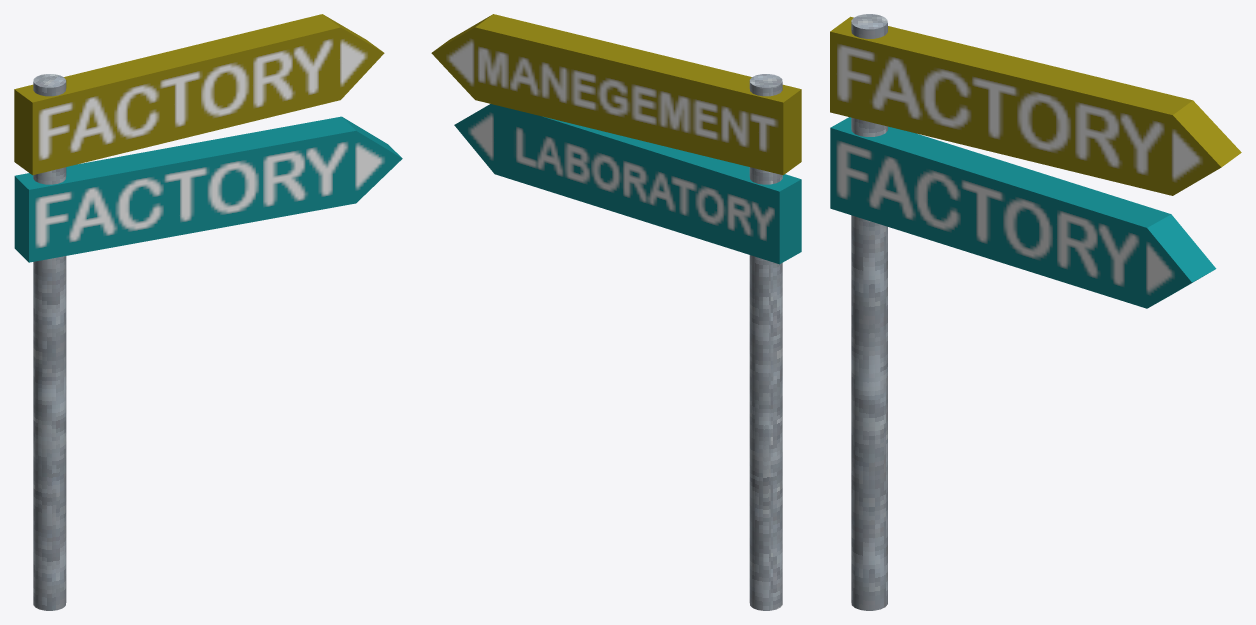
File: ground_one_sign.glb
3 renders of one model, left to right at view 1: azimuth 30°, elevation 25°; view 2: azimuth 150°, elevation 25°; view 3: azimuth 330°, elevation 25°, orthographic. The views are drawn at different scales.
Visible parts, largest first — view 1: GroundOneSign; view 2: GroundOneSign; view 3: GroundOneSign.
Part boxes in pixels (<box>): GroundOneSign: <box>14,14,402,610</box>; GroundOneSign: <box>431,14,801,610</box>; GroundOneSign: <box>830,14,1241,610</box>.
Size of the model in its own units: 1.04 by 1.48 by 0.2163.
3 materials, 3 textured.
